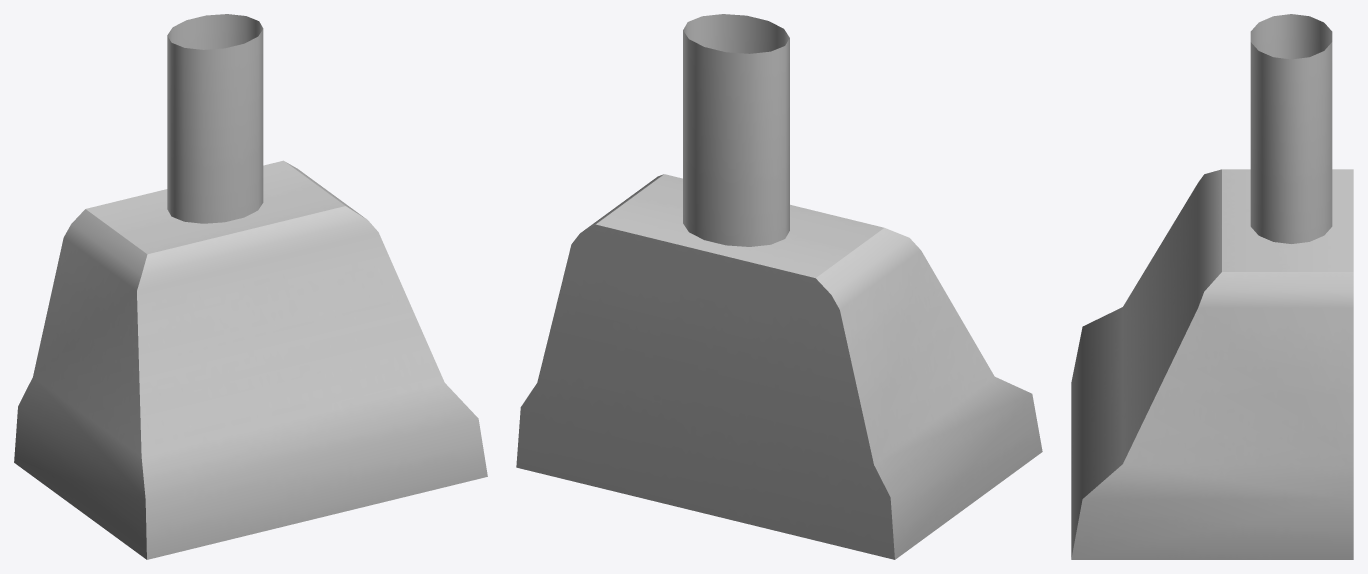
Rendered from ExtractorHood.FBX.
The picture shows the model from 3 angles, left to right: view 1: azimuth 30°, elevation 25°; view 2: azimuth 150°, elevation 25°; view 3: azimuth 270°, elevation 25°; orthographic projection. The views are drawn at different scales.
Parts seen in each view (by area): view 1: Cylinder003; view 2: Cylinder003; view 3: Cylinder003.
Boxes of the visible parts, x1,y1,x2,y2 form: Cylinder003: [14, 14, 487, 559]; Cylinder003: [516, 14, 1042, 559]; Cylinder003: [1071, 14, 1353, 559].
Bounding box in the file's own units: 77.32 × 88.89 × 52.23.
1 material, 1 textured.
